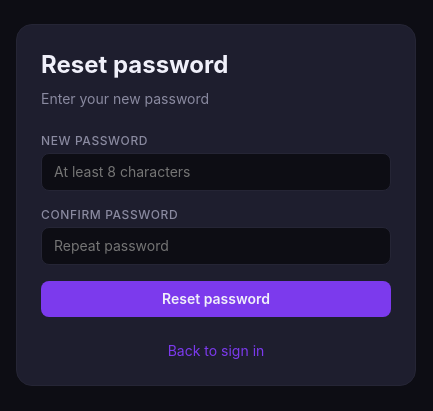
Test: ResetPasswordPage › should show error for empty password
Click the button "Reset password": (216, 299) [41, 281, 391, 317]
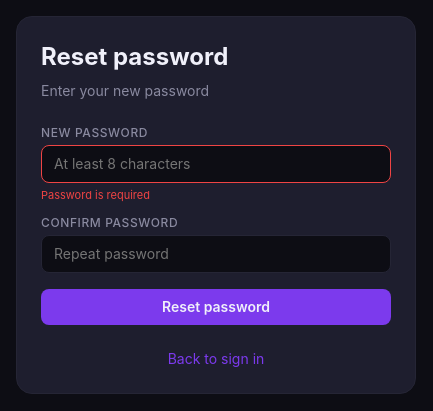
Expected: the text "Password is required" is shown, [41, 188, 150, 202]
